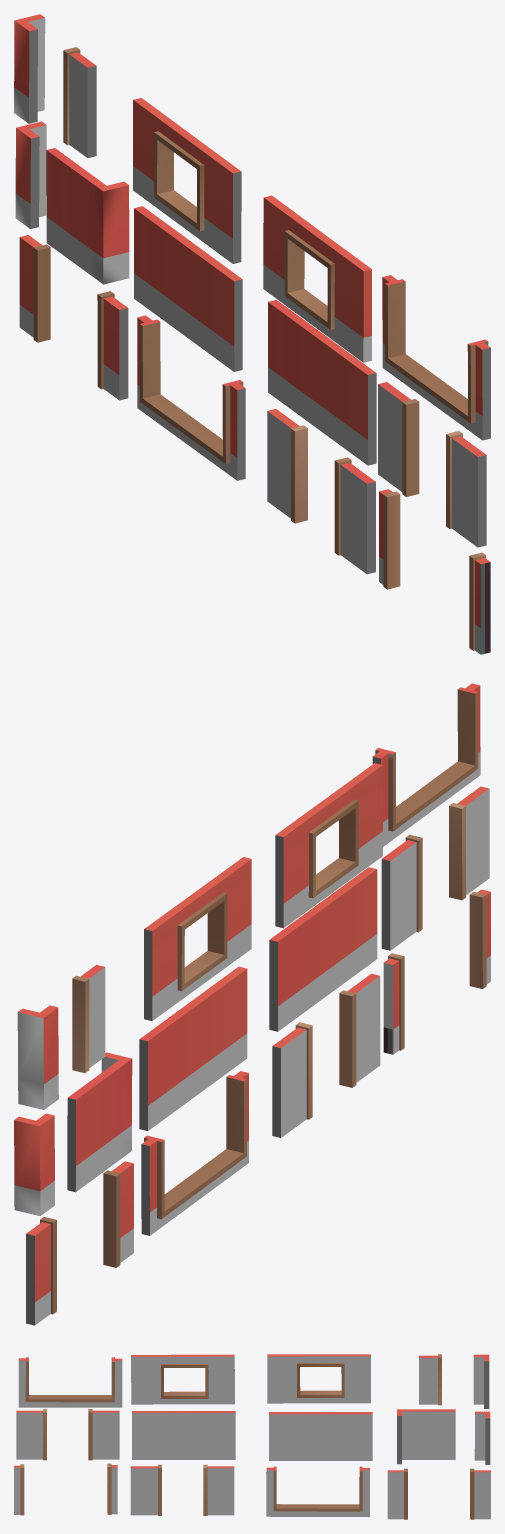
Rendered from solo parets rojo.fbx.
3 renders of one model, top to bottom at view 1: azimuth 30°, elevation 25°; view 2: azimuth 150°, elevation 25°; view 3: azimuth 270°, elevation 25°, orthographic. The views are drawn at different scales.
Parts seen in each view (by area): view 1: paret_basica_tipo_3, paret_basica_tipo_4, paret_ventana_tipo_3, paret_ventana_tipo_4, paret_estrecha_tipo_3, paret_puerta_tipo_5, paret_puerta_tipo_6, paret_con_ventana_grande_tipo_4, paret_con_ventana_grande_tipo_3, paret_doblepuerta_tipo_2, paret_garaje_tipo_3, paret_con_borde_tipo_5 (+2 smaller); view 2: paret_basica_tipo_3, paret_basica_tipo_4, paret_ventana_tipo_3, paret_ventana_tipo_4, paret_puerta_tipo_5, paret_puerta_tipo_6, paret_estrecha_tipo_3, paret_con_ventana_grande_tipo_4, paret_doblepuerta_tipo_2, paret_con_ventana_grande_tipo_3, paret_garaje_tipo_3, paret_esquina_tipo_7 (+2 smaller); view 3: paret_basica_tipo_3, paret_basica_tipo_4, paret_ventana_tipo_3, paret_ventana_tipo_4, paret_puerta_tipo_5, paret_puerta_tipo_6, paret_estrecha_tipo_3, paret_con_ventana_grande_tipo_3, paret_con_ventana_grande_tipo_4, paret_doblepuerta_tipo_2, paret_con_borde_tipo_5, paret_garaje_tipo_3 (+2 smaller).
Part boxes in pixels (bbox=[...]): paret_basica_tipo_3: bbox=[268, 300, 376, 465]; paret_basica_tipo_4: bbox=[134, 206, 242, 371]; paret_ventana_tipo_3: bbox=[263, 195, 371, 362]; paret_ventana_tipo_4: bbox=[133, 98, 241, 263]; paret_estrecha_tipo_3: bbox=[46, 148, 129, 284]; paret_puerta_tipo_5: bbox=[267, 409, 375, 574]; paret_puerta_tipo_6: bbox=[378, 382, 486, 547]; paret_con_ventana_grande_tipo_4: bbox=[137, 315, 245, 480]; paret_con_ventana_grande_tipo_3: bbox=[382, 275, 490, 440]; paret_doblepuerta_tipo_2: bbox=[19, 235, 128, 400]; paret_garaje_tipo_3: bbox=[379, 489, 490, 654]; paret_con_borde_tipo_5: bbox=[63, 47, 96, 157]; paret_basica_tipo_3: bbox=[269, 867, 377, 1031]; paret_basica_tipo_4: bbox=[139, 966, 247, 1130]; paret_ventana_tipo_3: bbox=[275, 763, 382, 928]; paret_ventana_tipo_4: bbox=[144, 857, 251, 1020]; paret_puerta_tipo_5: bbox=[272, 973, 380, 1137]; paret_puerta_tipo_6: bbox=[381, 786, 489, 950]; paret_estrecha_tipo_3: bbox=[67, 1052, 132, 1192]; paret_con_ventana_grande_tipo_4: bbox=[141, 1071, 248, 1235]; paret_doblepuerta_tipo_2: bbox=[26, 1161, 133, 1325]; paret_con_ventana_grande_tipo_3: bbox=[372, 683, 480, 846]; paret_garaje_tipo_3: bbox=[383, 889, 490, 1054]; paret_esquina_tipo_7: bbox=[17, 1005, 58, 1109]; paret_basica_tipo_3: bbox=[132, 1411, 235, 1459]; paret_basica_tipo_4: bbox=[269, 1412, 372, 1460]; paret_ventana_tipo_3: bbox=[131, 1354, 234, 1404]; paret_ventana_tipo_4: bbox=[267, 1354, 370, 1403]; paret_puerta_tipo_5: bbox=[130, 1464, 234, 1515]; paret_puerta_tipo_6: bbox=[16, 1409, 119, 1460]; paret_estrecha_tipo_3: bbox=[397, 1409, 455, 1464]; paret_con_ventana_grande_tipo_3: bbox=[18, 1357, 122, 1407]; paret_con_ventana_grande_tipo_4: bbox=[266, 1466, 369, 1516]; paret_doblepuerta_tipo_2: bbox=[387, 1468, 490, 1519]; paret_con_borde_tipo_5: bbox=[419, 1354, 441, 1405]; paret_garaje_tipo_3: bbox=[14, 1463, 117, 1515].
Size of the model in its own units: 112 by 1144 by 3048.
